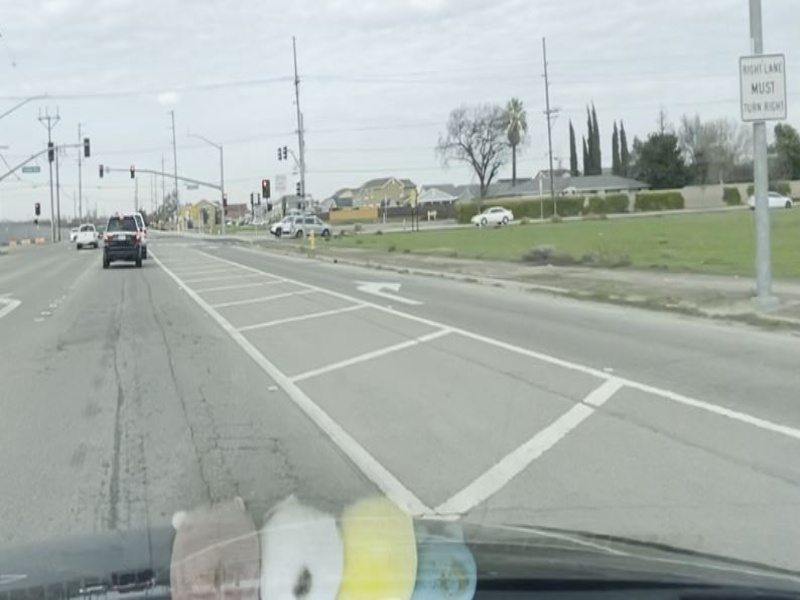merge sign: (734, 50, 793, 132)
